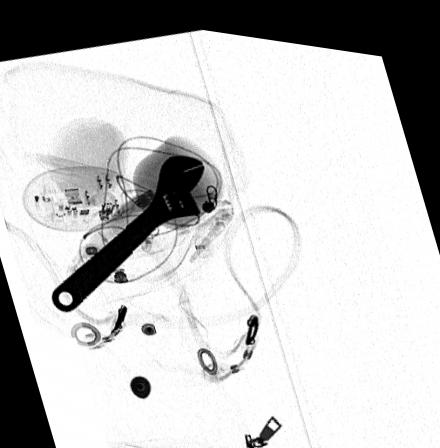Wrench: (50, 147, 202, 312)
